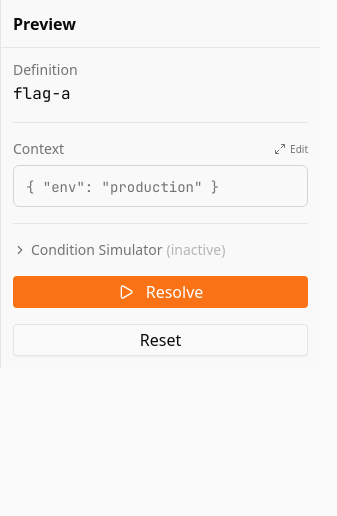
Test: PreviewPanel › should show success result after resolve
This screenshot has width=337, height=516.
Click the button "Resolve": (160, 292) [13, 276, 308, 308]
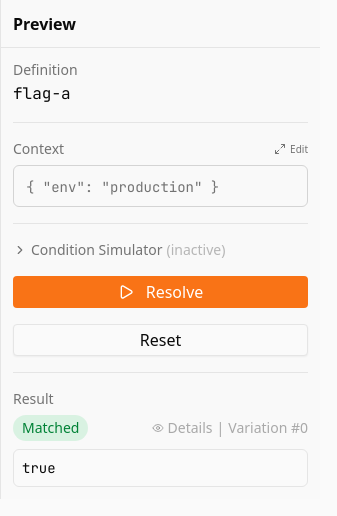
Result: the text "Matched" is shown at [13, 415, 88, 441]
Result: the text "true" is shown at [22, 459, 56, 477]
